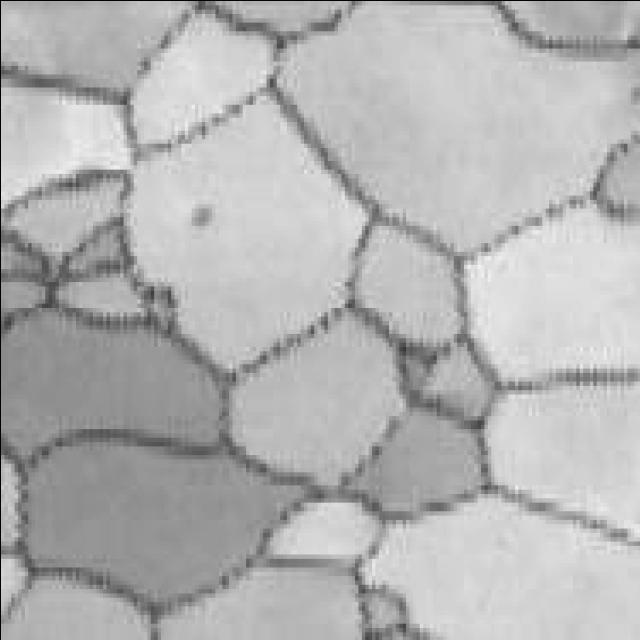good_void: (192, 200, 216, 228)
